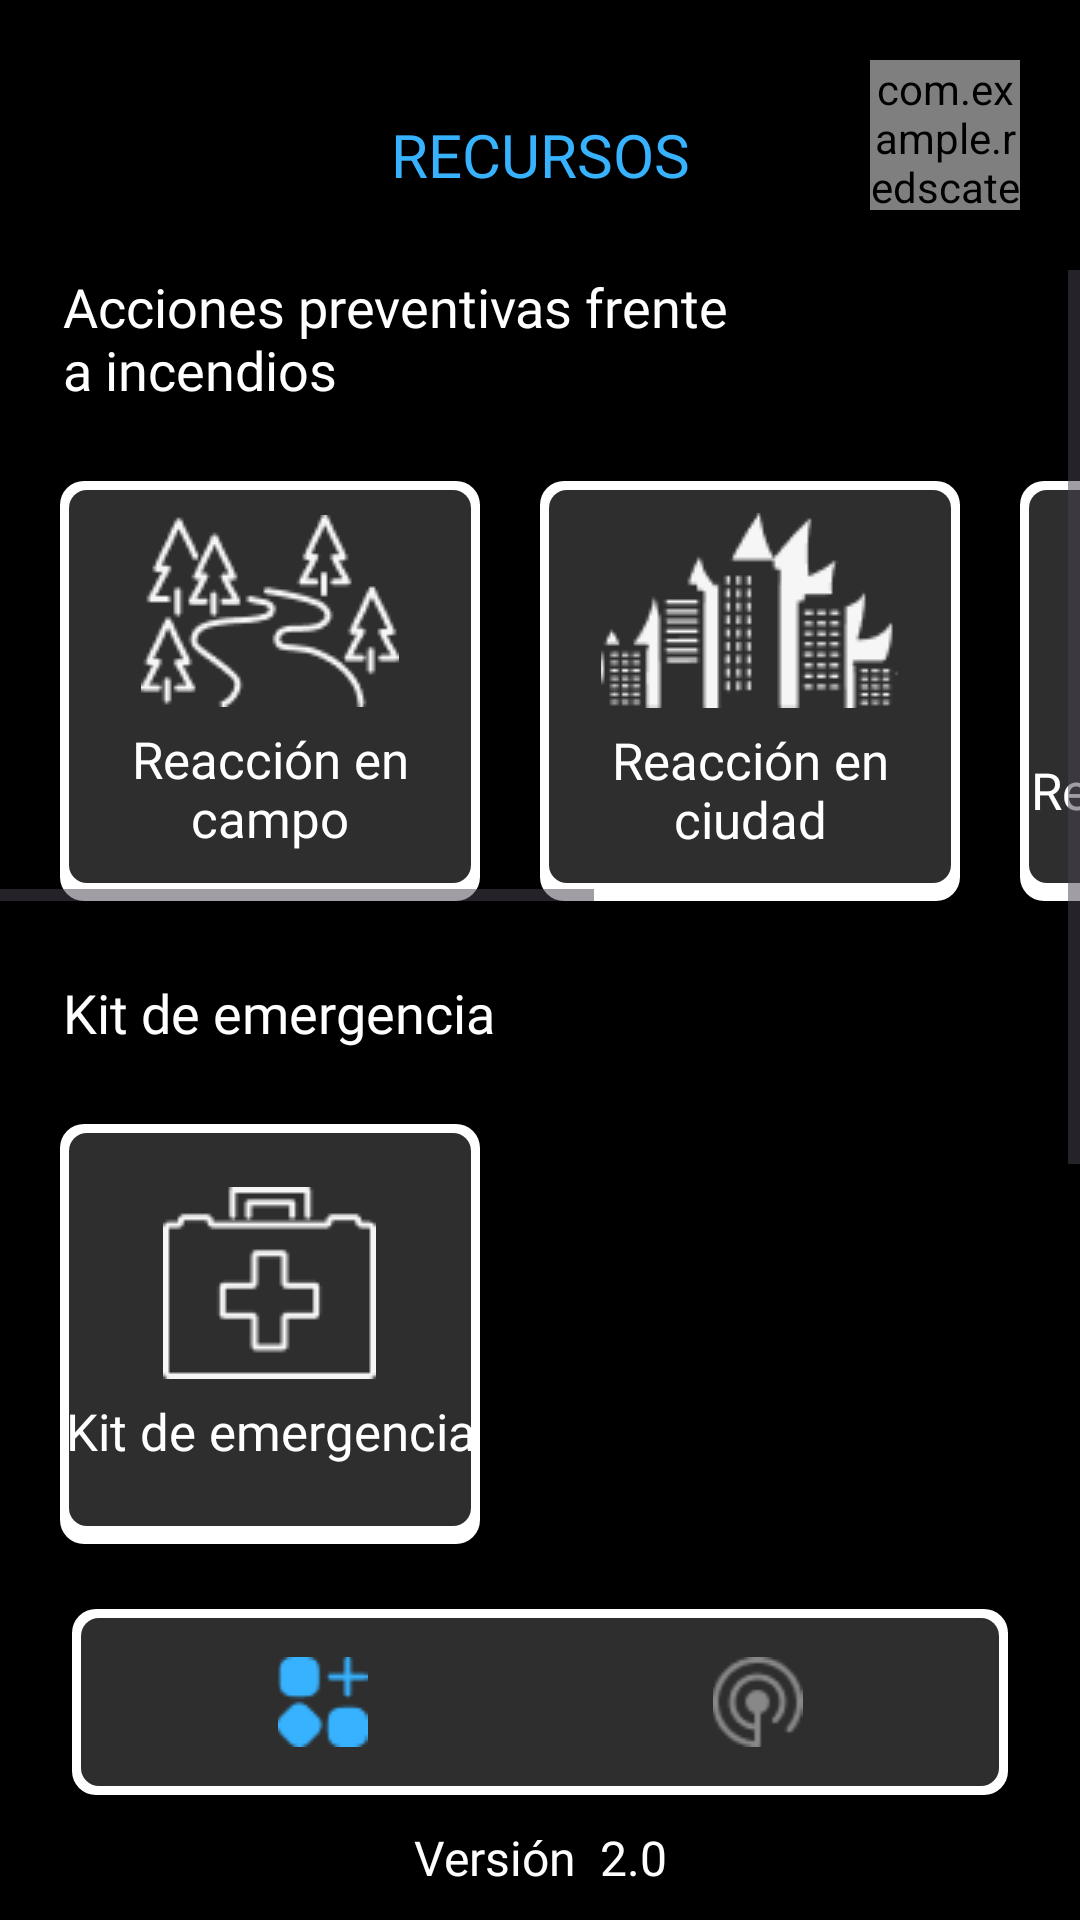

Locate icon controls on the screen. Image size 1080 × 1920, boxes as (x1, y1, x2, y2).
radar: (713, 1657, 803, 1747)
